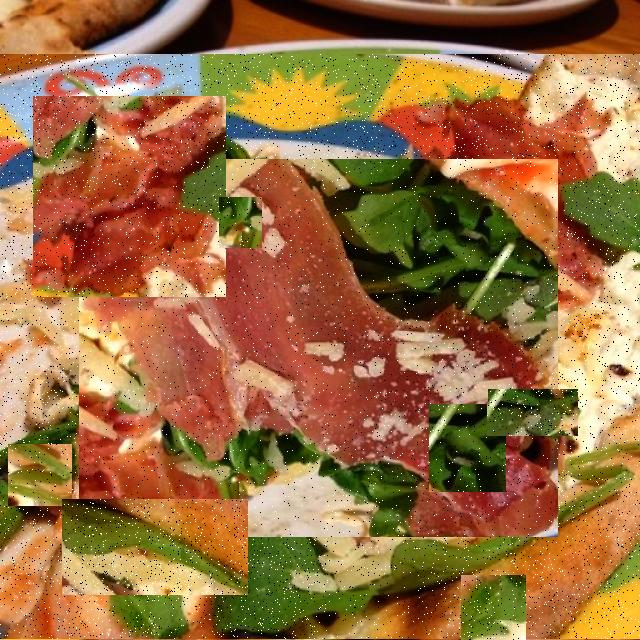Ham: (81, 159, 558, 537), (33, 96, 226, 297)
Pizza: (0, 54, 640, 640)
Rucola: (328, 417, 428, 636), (62, 499, 248, 595), (430, 404, 508, 492), (2, 175, 76, 246), (488, 389, 578, 436), (461, 575, 526, 640), (8, 444, 72, 506), (220, 198, 264, 250)
